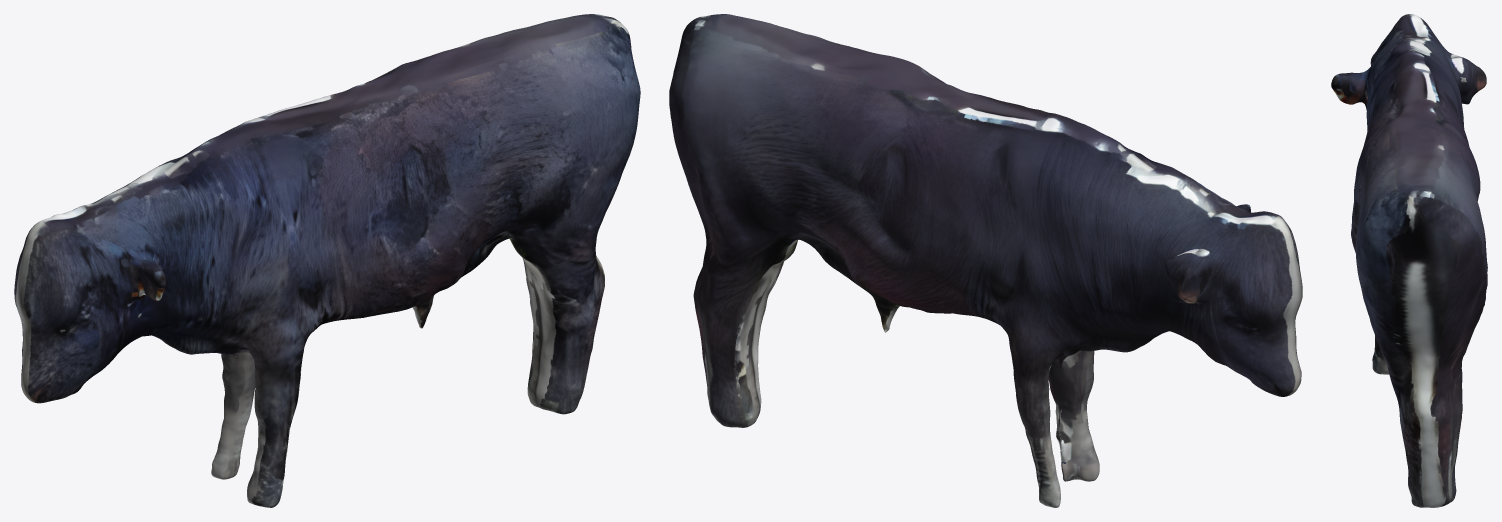
Rendered from joven.glb.
3 renders of one model, left to right at view 1: azimuth 30°, elevation 25°; view 2: azimuth 150°, elevation 25°; view 3: azimuth 270°, elevation 25°, orthographic. The views are drawn at different scales.
Visible parts, largest first — view 1: mesh; view 2: mesh; view 3: mesh.
Boxes of the visible parts, x1,y1,x2,y2 form: mesh: (14,14,640,507); mesh: (669,14,1302,507); mesh: (1331,14,1487,507).
Size of the model in its own units: 1.76 by 1.07 by 0.4625.
1 material, 1 textured.
